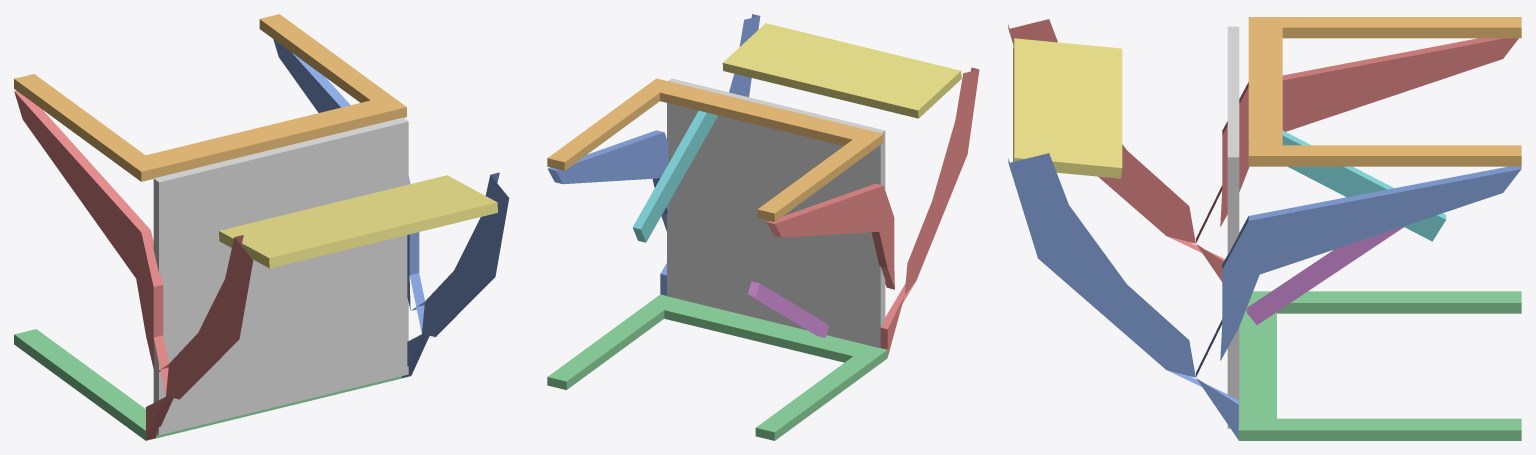
The model's file is silla_v1.glb.
3 views of the same model, side by side, from view 1: azimuth 30°, elevation 25°; view 2: azimuth 150°, elevation 25°; view 3: azimuth 270°, elevation 25° (orthographic). The views are drawn at different scales.
Parts seen in each view (by area): view 1: Asiento, Lateral Izq. A, Escuadra Tras. D, Respaldo, Lateral Der. B, Escuadra Del. C; view 2: Asiento, Respaldo, Escuadra Del. C, Escuadra Tras. D, Lateral Izq. A, Lateral Der. B, Refuerzo trasero ancho, Refuerzo delantero fino; view 3: Lateral Der. B, Lateral Izq. A, Escuadra Del. C, Escuadra Tras. D, Respaldo, Asiento, Refuerzo delantero fino, Refuerzo trasero ancho.
Boxes of the visible parts, x1=… form: Asiento: x1=153, y1=117, x2=408, y2=435; Lateral Izq. A: x1=14, y1=90, x2=253, y2=440; Escuadra Tras. D: x1=14, y1=14, x2=406, y2=181; Respaldo: x1=219, y1=175, x2=497, y2=268; Lateral Der. B: x1=273, y1=39, x2=509, y2=377; Escuadra Del. C: x1=14, y1=329, x2=411, y2=440; Asiento: x1=667, y1=78, x2=885, y2=348; Respaldo: x1=722, y1=23, x2=961, y2=118; Escuadra Del. C: x1=547, y1=294, x2=887, y2=440; Escuadra Tras. D: x1=547, y1=78, x2=883, y2=221; Lateral Izq. A: x1=767, y1=67, x2=979, y2=356; Lateral Der. B: x1=547, y1=14, x2=760, y2=295; Refuerzo trasero ancho: x1=632, y1=110, x2=717, y2=242; Refuerzo delantero fino: x1=748, y1=281, x2=829, y2=337; Lateral Der. B: x1=1008, y1=153, x2=1521, y2=439; Lateral Izq. A: x1=1008, y1=19, x2=1518, y2=281; Escuadra Del. C: x1=1238, y1=291, x2=1521, y2=440; Escuadra Tras. D: x1=1248, y1=17, x2=1521, y2=166; Respaldo: x1=1013, y1=38, x2=1122, y2=178; Asiento: x1=1227, y1=26, x2=1239, y2=428; Refuerzo delantero fino: x1=1246, y1=226, x2=1403, y2=324; Refuerzo trasero ancho: x1=1248, y1=130, x2=1446, y2=241.
Bounding box in the file's own units: 500 × 483 × 780.
